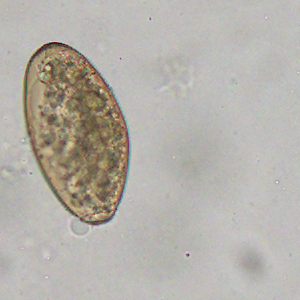Fasciola_hepatica_egg: (21, 41, 131, 227)
